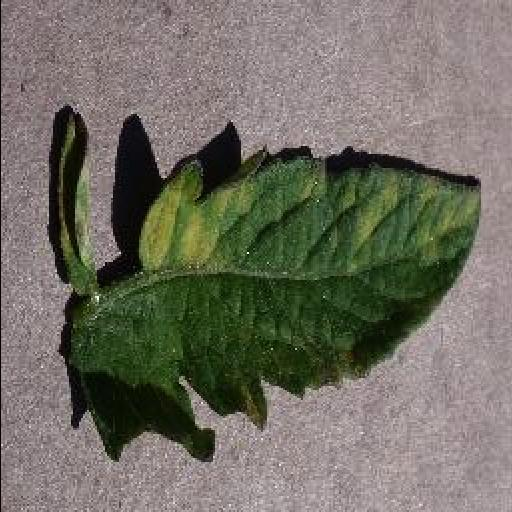disease_tomato: (61, 150, 483, 460)
